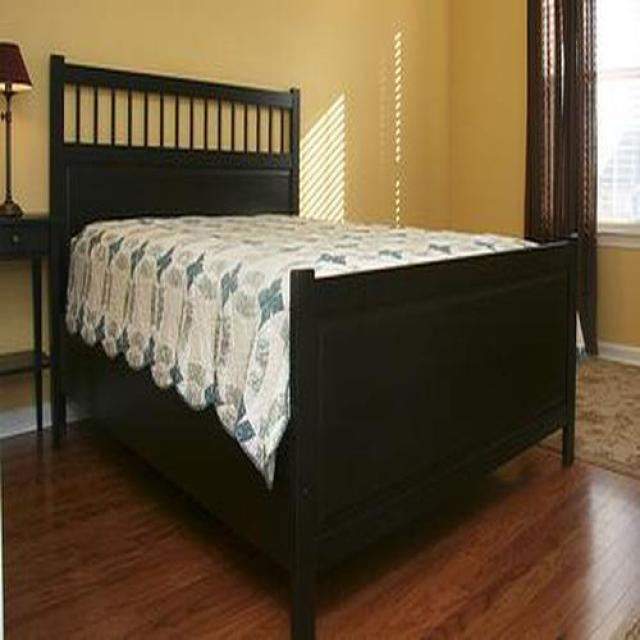bed: (50, 56, 577, 640)
